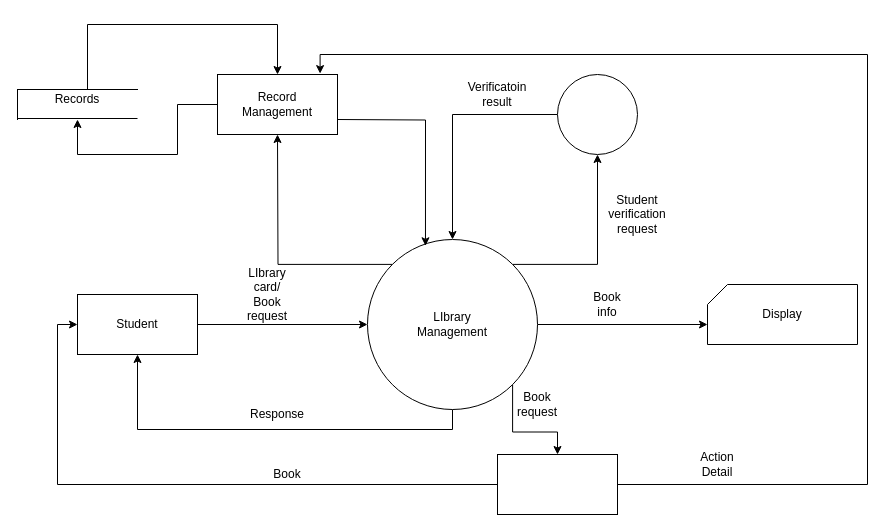
Some shapes in this 893 by 532 pixel diagram are drawn without their labels. Here are the shapes that lost their labels. From the top down, the box of each, then its label:
(556, 74, 638, 154): Authentication
(496, 454, 618, 514): Staff
